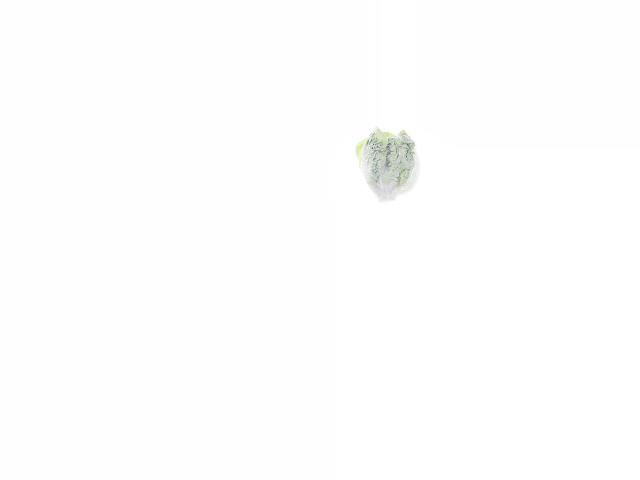lettuce: (352, 128, 422, 202)
